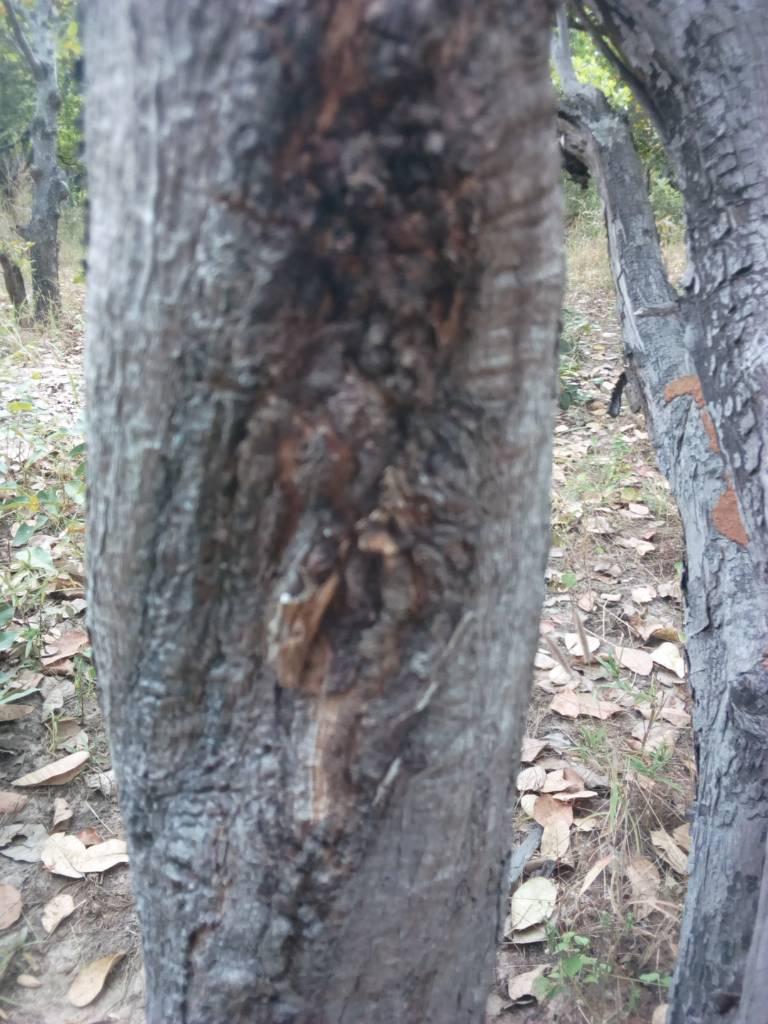Gommose: (222, 2, 463, 722)
